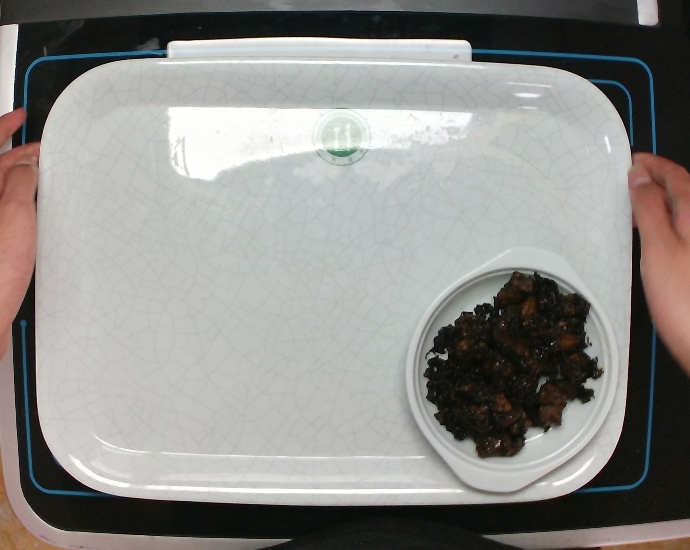JYsf-Shuang_Er_Pan: (397, 230, 625, 497)
